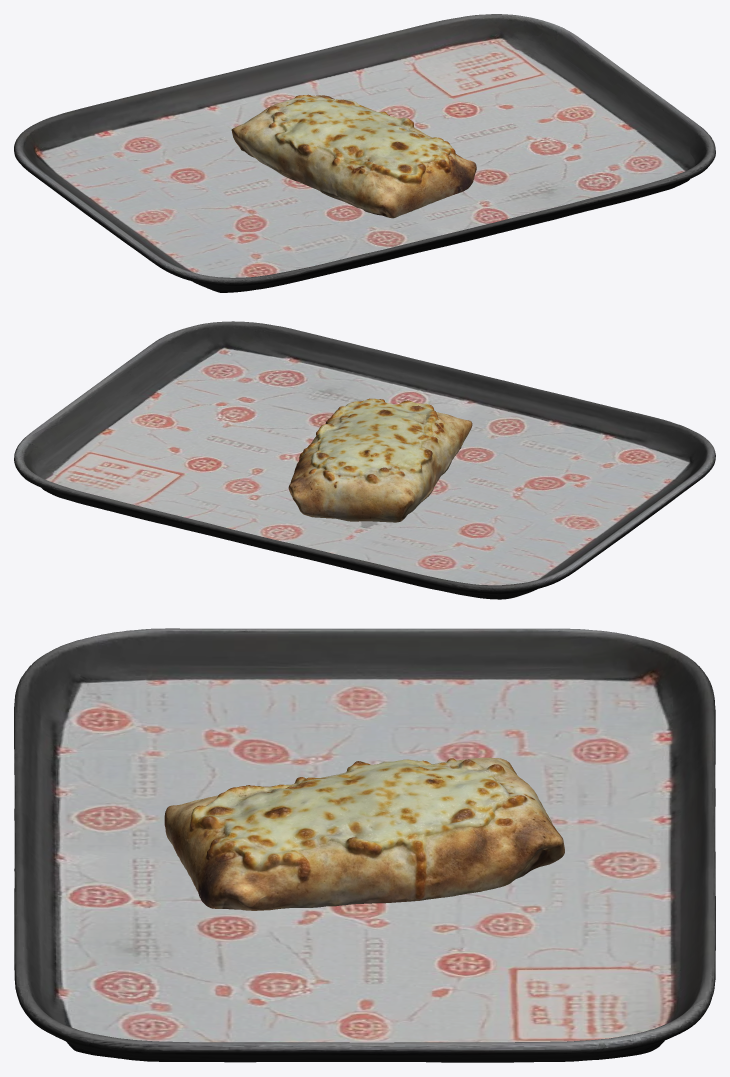
Rendered from melted.cheese.glb.
3 views of the same model, one above another, from view 1: azimuth 30°, elevation 25°; view 2: azimuth 150°, elevation 25°; view 3: azimuth 270°, elevation 25° (orthographic). The views are drawn at different scales.
Parts seen in each view (by area): view 1: /Root/Scenes/Scene/Object_37/Object_38/Object_39/Submesh_0, /Root/Scenes/Scene/Object_37/Object_40/Submesh_0; view 2: /Root/Scenes/Scene/Object_37/Object_38/Object_39/Submesh_0, /Root/Scenes/Scene/Object_37/Object_40/Submesh_0; view 3: /Root/Scenes/Scene/Object_37/Object_38/Object_39/Submesh_0, /Root/Scenes/Scene/Object_37/Object_40/Submesh_0.
Boxes of the visible parts, x1,y1,x2,y2 form: /Root/Scenes/Scene/Object_37/Object_38/Object_39/Submesh_0: (14,14,715,292); /Root/Scenes/Scene/Object_37/Object_40/Submesh_0: (231,94,476,218); /Root/Scenes/Scene/Object_37/Object_38/Object_39/Submesh_0: (14,321,715,599); /Root/Scenes/Scene/Object_37/Object_40/Submesh_0: (288,398,472,522); /Root/Scenes/Scene/Object_37/Object_38/Object_39/Submesh_0: (14,628,715,1062); /Root/Scenes/Scene/Object_37/Object_40/Submesh_0: (164,757,564,910).
Size of the model in its own units: 0.4787 by 0.0427 by 0.3384.
Materials: 2 (2 with a texture image).
